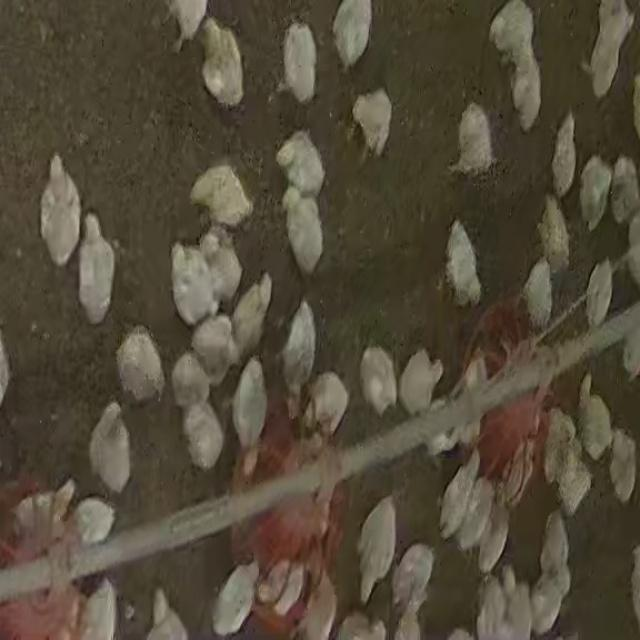chicken: (9, 478, 82, 571), (490, 2, 542, 130), (584, 3, 634, 104), (40, 155, 84, 264), (355, 493, 398, 603), (75, 208, 115, 321), (172, 234, 219, 325), (88, 400, 132, 496), (200, 19, 246, 110), (191, 163, 254, 226), (211, 559, 261, 637), (280, 299, 318, 399), (232, 353, 270, 453), (440, 450, 484, 536), (443, 218, 483, 310), (114, 328, 164, 401), (230, 274, 271, 363), (449, 102, 496, 179), (282, 185, 325, 269), (203, 230, 244, 312), (391, 542, 435, 618), (398, 346, 444, 418), (190, 314, 237, 384), (181, 399, 226, 471), (306, 370, 352, 440), (281, 21, 318, 106), (358, 344, 400, 418), (351, 88, 395, 156), (331, 1, 373, 72), (576, 382, 612, 462), (544, 408, 580, 488), (297, 568, 336, 640), (576, 153, 612, 230), (278, 134, 323, 195), (529, 566, 569, 634), (536, 198, 570, 271), (78, 577, 119, 637), (475, 506, 510, 575), (170, 353, 210, 413), (72, 496, 117, 549), (550, 110, 577, 198), (582, 256, 614, 330), (607, 427, 637, 504), (537, 510, 569, 582), (609, 154, 640, 228), (522, 257, 554, 328), (464, 476, 493, 553), (556, 455, 593, 515), (474, 576, 510, 637), (504, 580, 534, 636)
